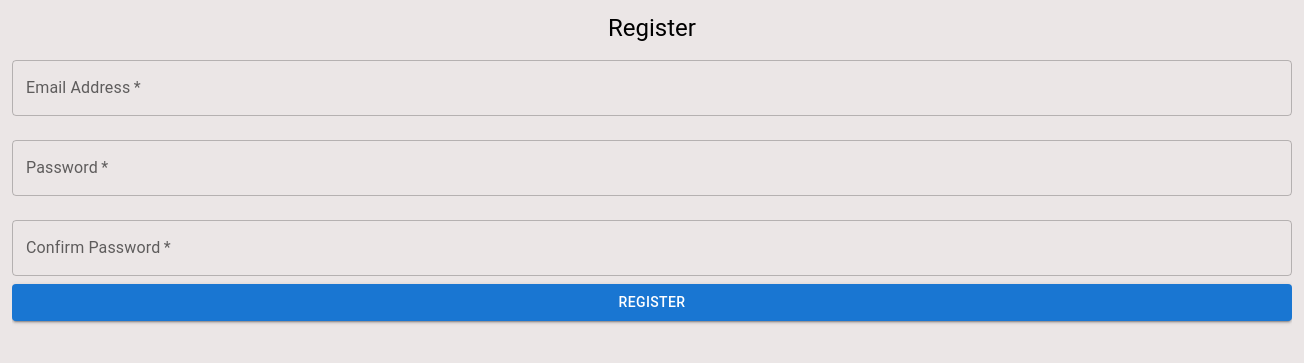
Test: RegistrationFormFields › validates password mismatch
This screenshot has width=1304, height=363.
In the field labelled "Email Address *": {"x": 652, "y": 88} [12,60,1292,116], type "test@gmail.com"
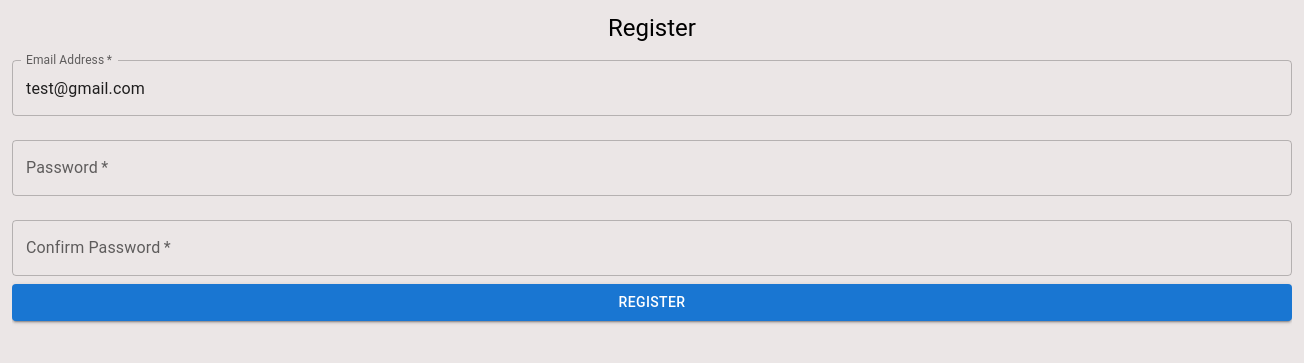
In the password field labelled "Password *": {"x": 652, "y": 168} [12,140,1292,196], type "testy"
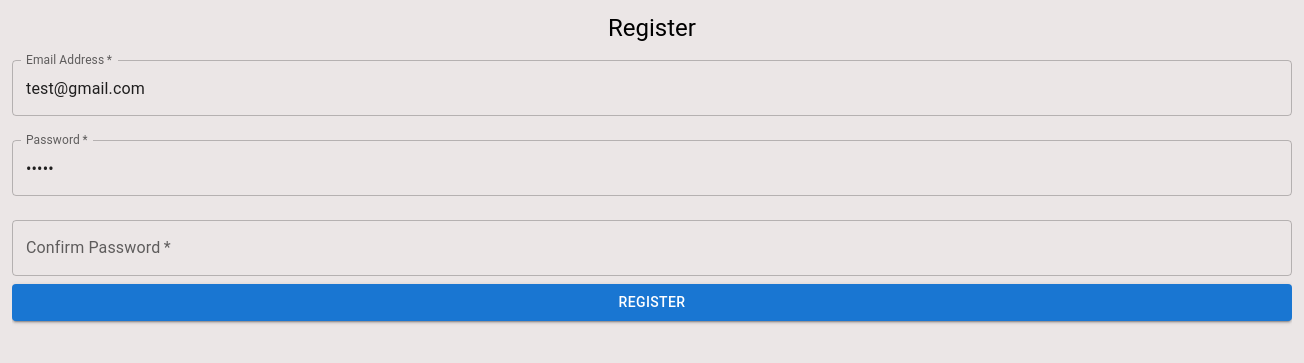
In the password field labelled "Confirm Password *": {"x": 652, "y": 248} [12,220,1292,276], type "testy2"
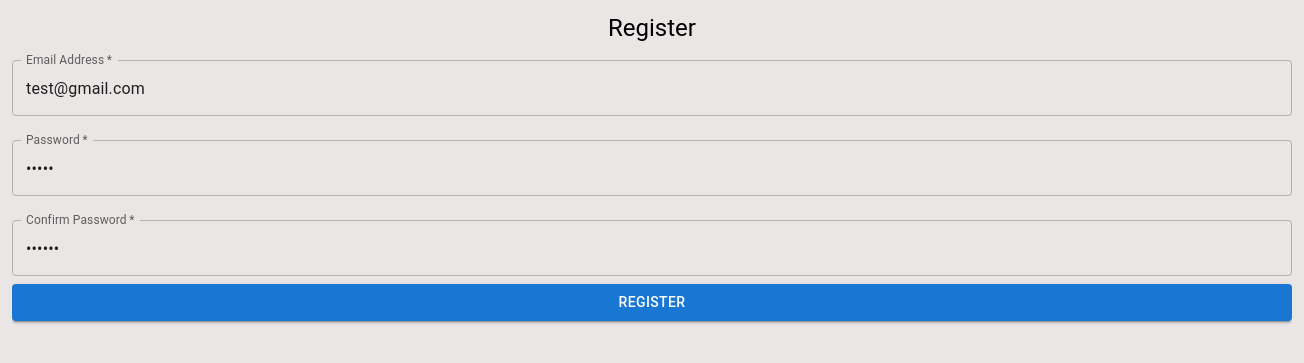
Click the button with test id "register-button": {"x": 652, "y": 302} [12,284,1292,320]
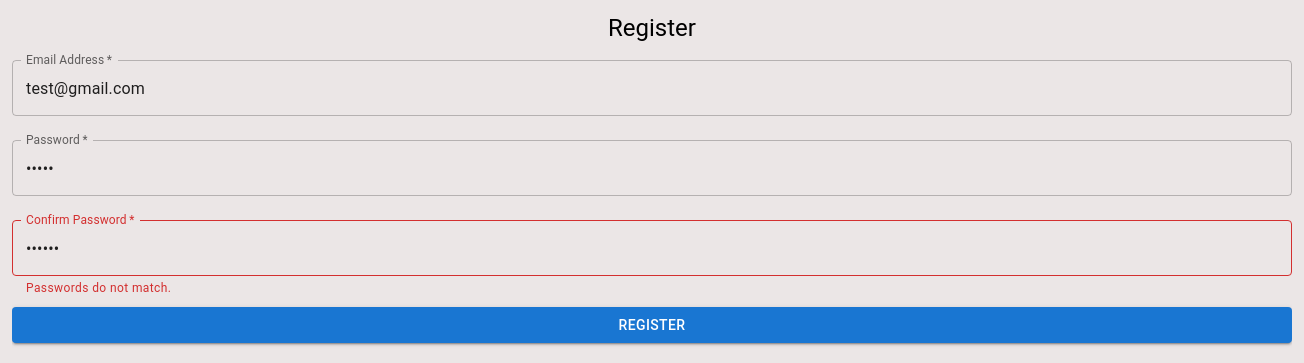
Expected: the text "Passwords do not match." is shown, [26,281,171,295]
